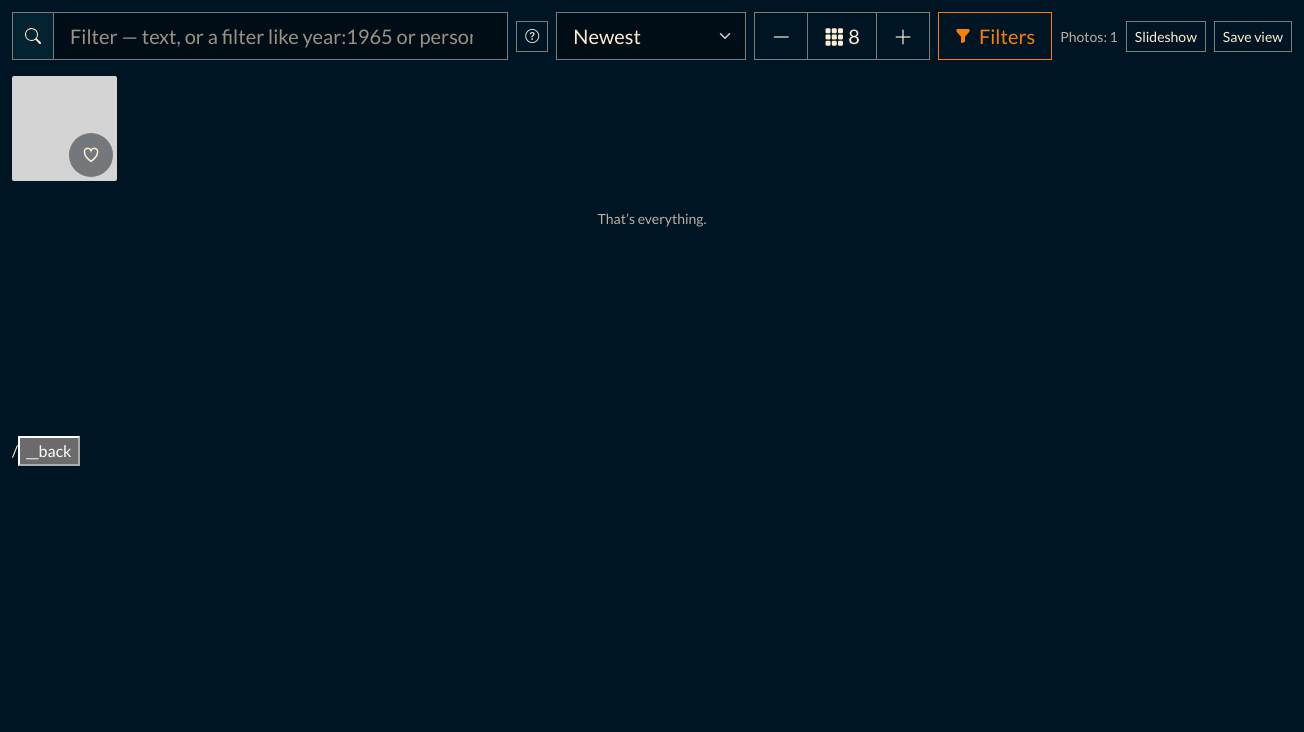
Test case: LibraryPage › sets and clears the favorites scope from the filter bar, refetching each time
The width and height of the screenshot is (1304, 732).
The favorites toggle lives in the advanced panel.
Click the button "Filters" at (995, 36), box [938, 12, 1052, 60]
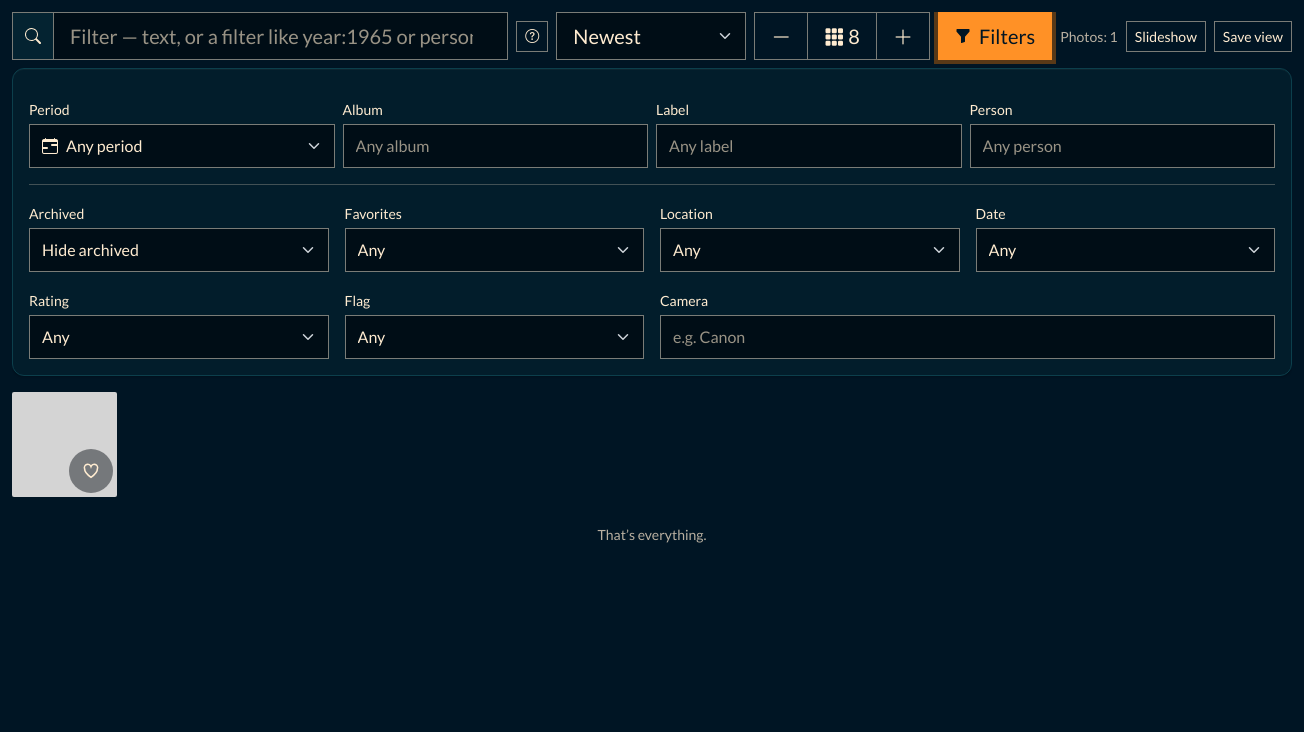
Select "Favorites only" in the dropdown labelled "Favorites" at (494, 250), box [344, 228, 644, 272]
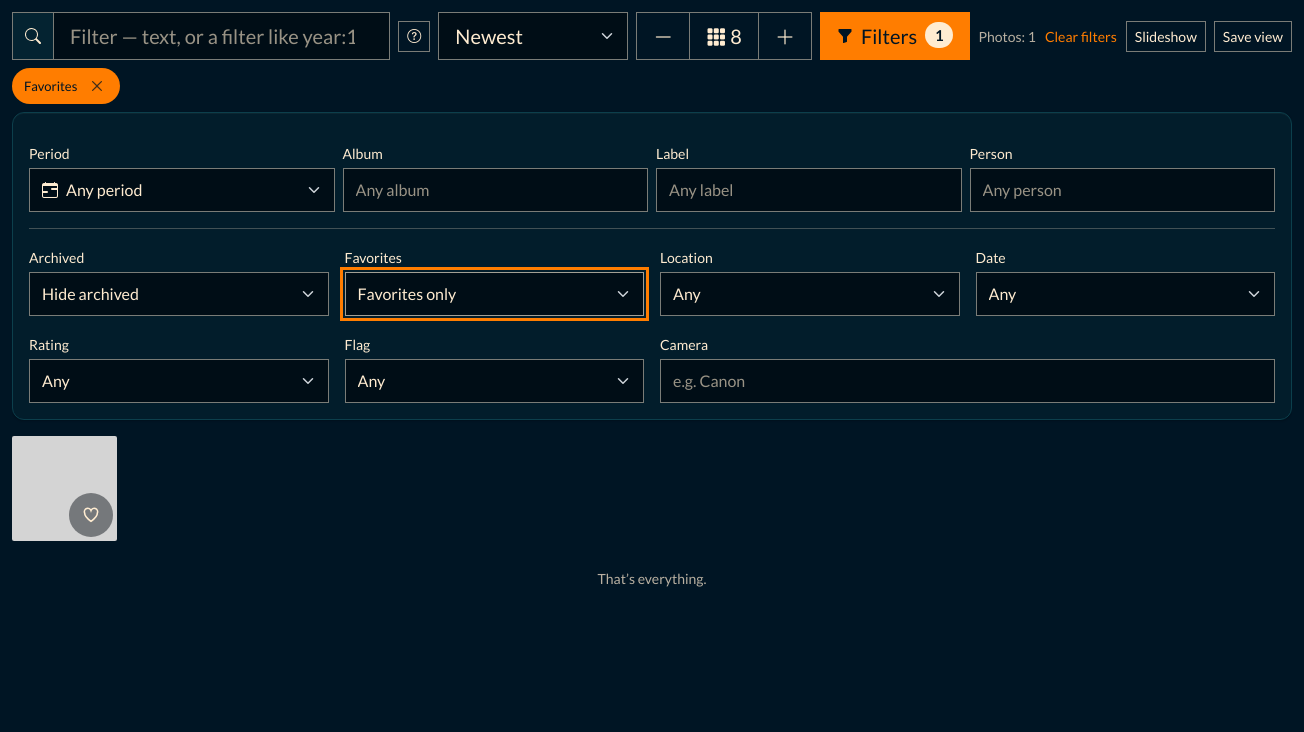
Select "Any" in the dropdown labelled "Favorites" at (494, 294), box [344, 272, 644, 316]
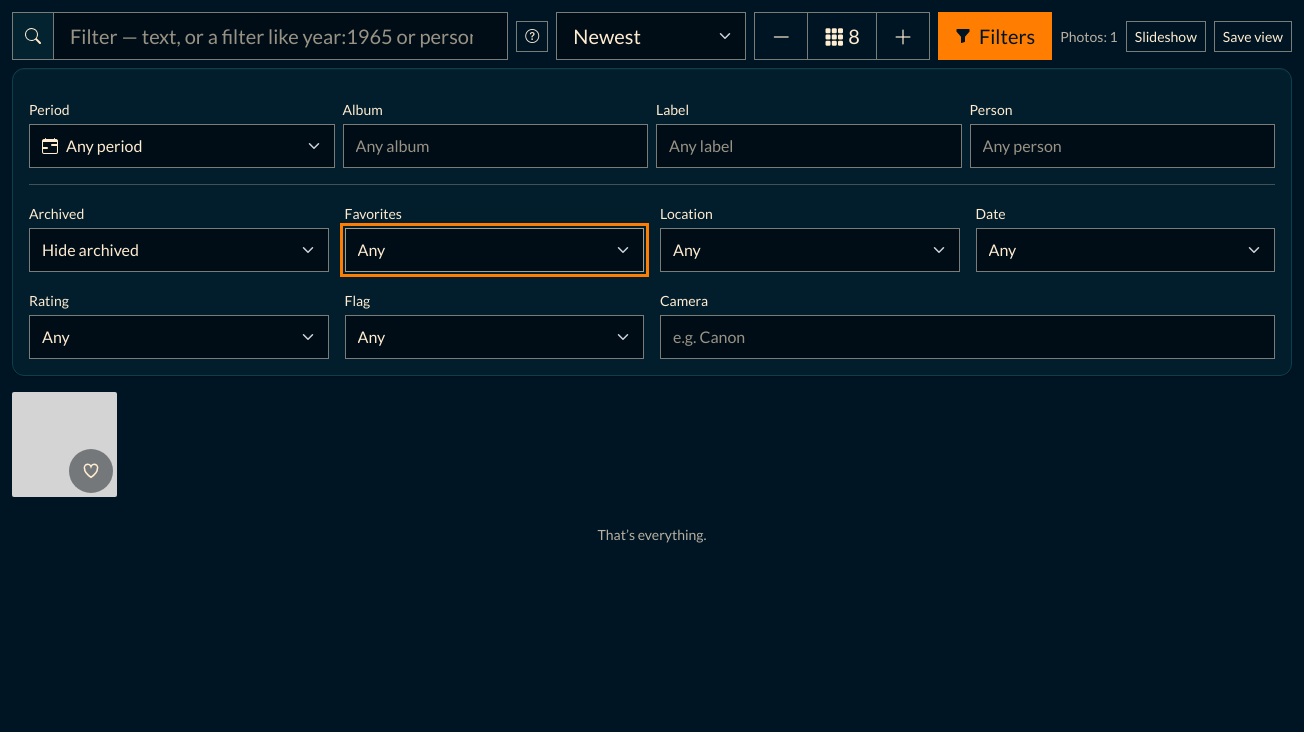
Expected: the element with test id "search" no longer shows "favorite"
